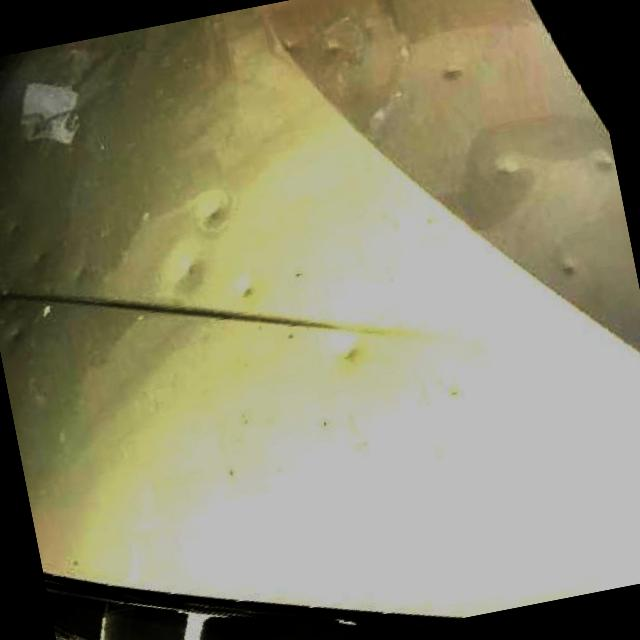dent: (194, 194, 237, 234), (165, 253, 207, 290), (488, 148, 529, 180), (333, 338, 365, 368), (592, 144, 614, 174), (438, 61, 464, 84), (556, 256, 578, 280), (5, 322, 28, 343), (236, 280, 258, 299), (70, 266, 90, 286), (30, 250, 48, 267)
